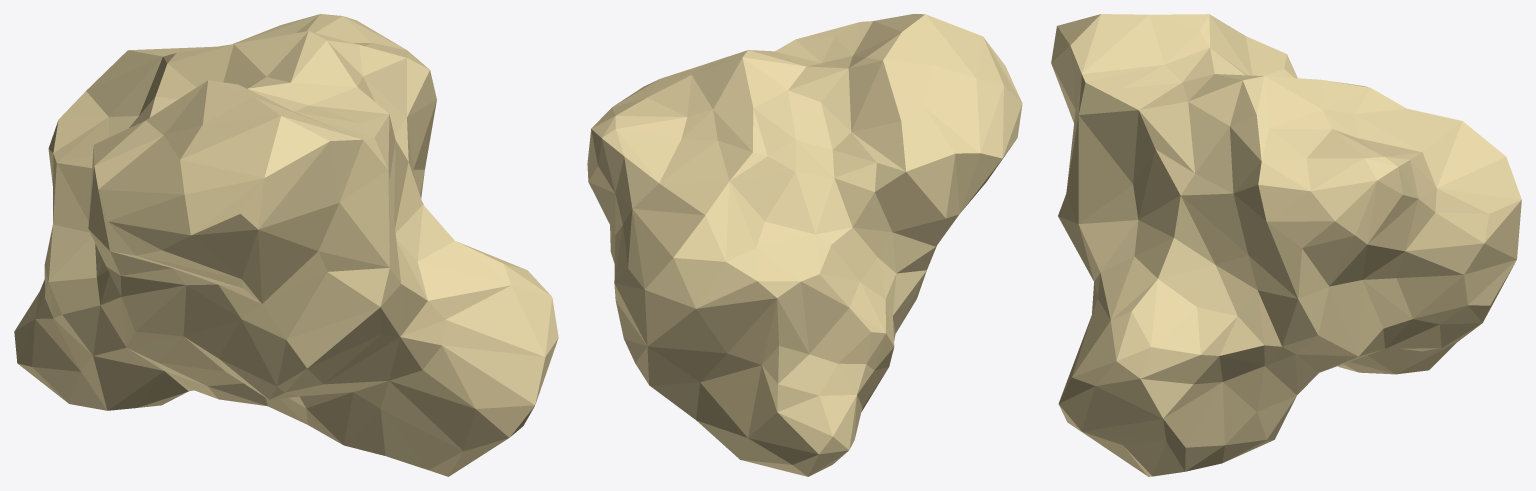
File: Asteroid (37).fbx
3 renders of one model, left to right at view 1: azimuth 30°, elevation 25°; view 2: azimuth 150°, elevation 25°; view 3: azimuth 270°, elevation 25°, orthographic. The views are drawn at different scales.
Parts seen in each view (by area): view 1: Asteroid143; view 2: Asteroid143; view 3: Asteroid143.
Boxes of the visible parts, x1,y1,x2,y2 form: Asteroid143: [14, 14, 558, 476]; Asteroid143: [587, 14, 1022, 476]; Asteroid143: [1051, 14, 1521, 476].
Size of the model in its own units: 234 by 228 by 257.
